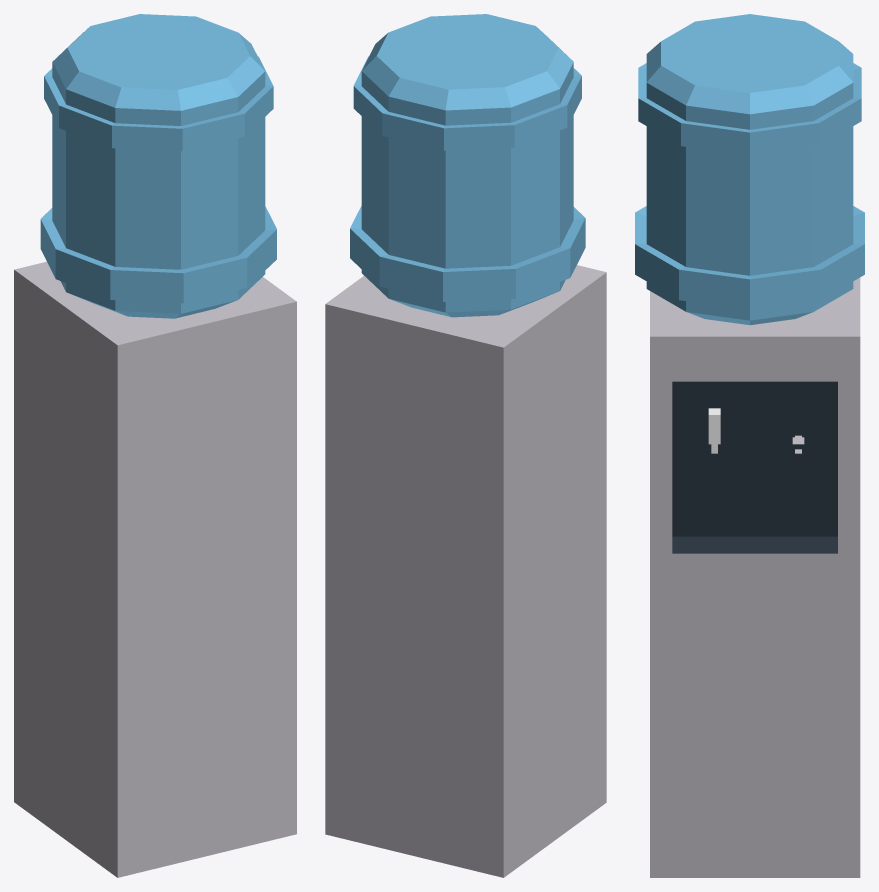
Rendered from water dispenser.glb.
3 views of the same model, side by side, from view 1: azimuth 30°, elevation 25°; view 2: azimuth 150°, elevation 25°; view 3: azimuth 270°, elevation 25° (orthographic). The views are drawn at different scales.
Parts seen in each view (by area): view 1: water despencer_9, Cylinder.024_8; view 2: water despencer_9, Cylinder.024_8; view 3: water despencer_9, Cylinder.024_8.
Boxes of the visible parts, x1,y1,x2,y2 form: water despencer_9: [14, 261, 296, 877]; Cylinder.024_8: [40, 14, 276, 318]; water despencer_9: [325, 265, 606, 877]; Cylinder.024_8: [350, 14, 585, 317]; water despencer_9: [650, 277, 860, 877]; Cylinder.024_8: [635, 14, 864, 325].
Size of the model in its own units: 0.4206 by 1.5 by 0.4.
